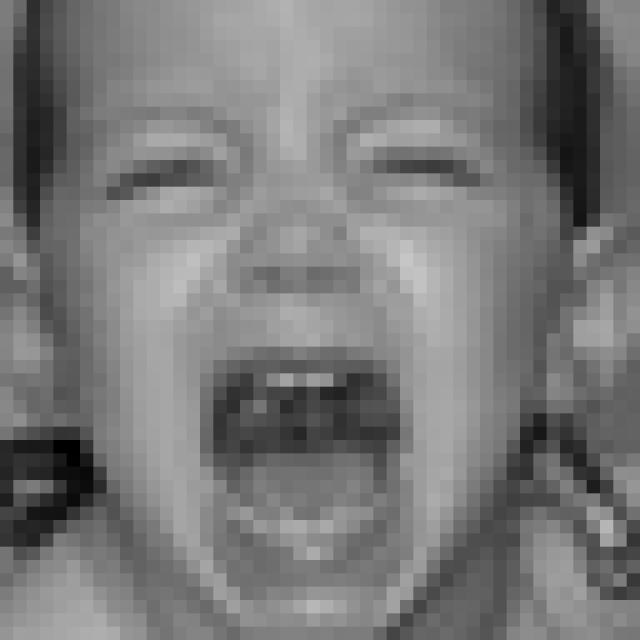angry: (97, 95, 499, 590)
